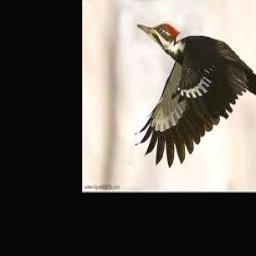Woodpecker: (134, 23, 256, 168)
